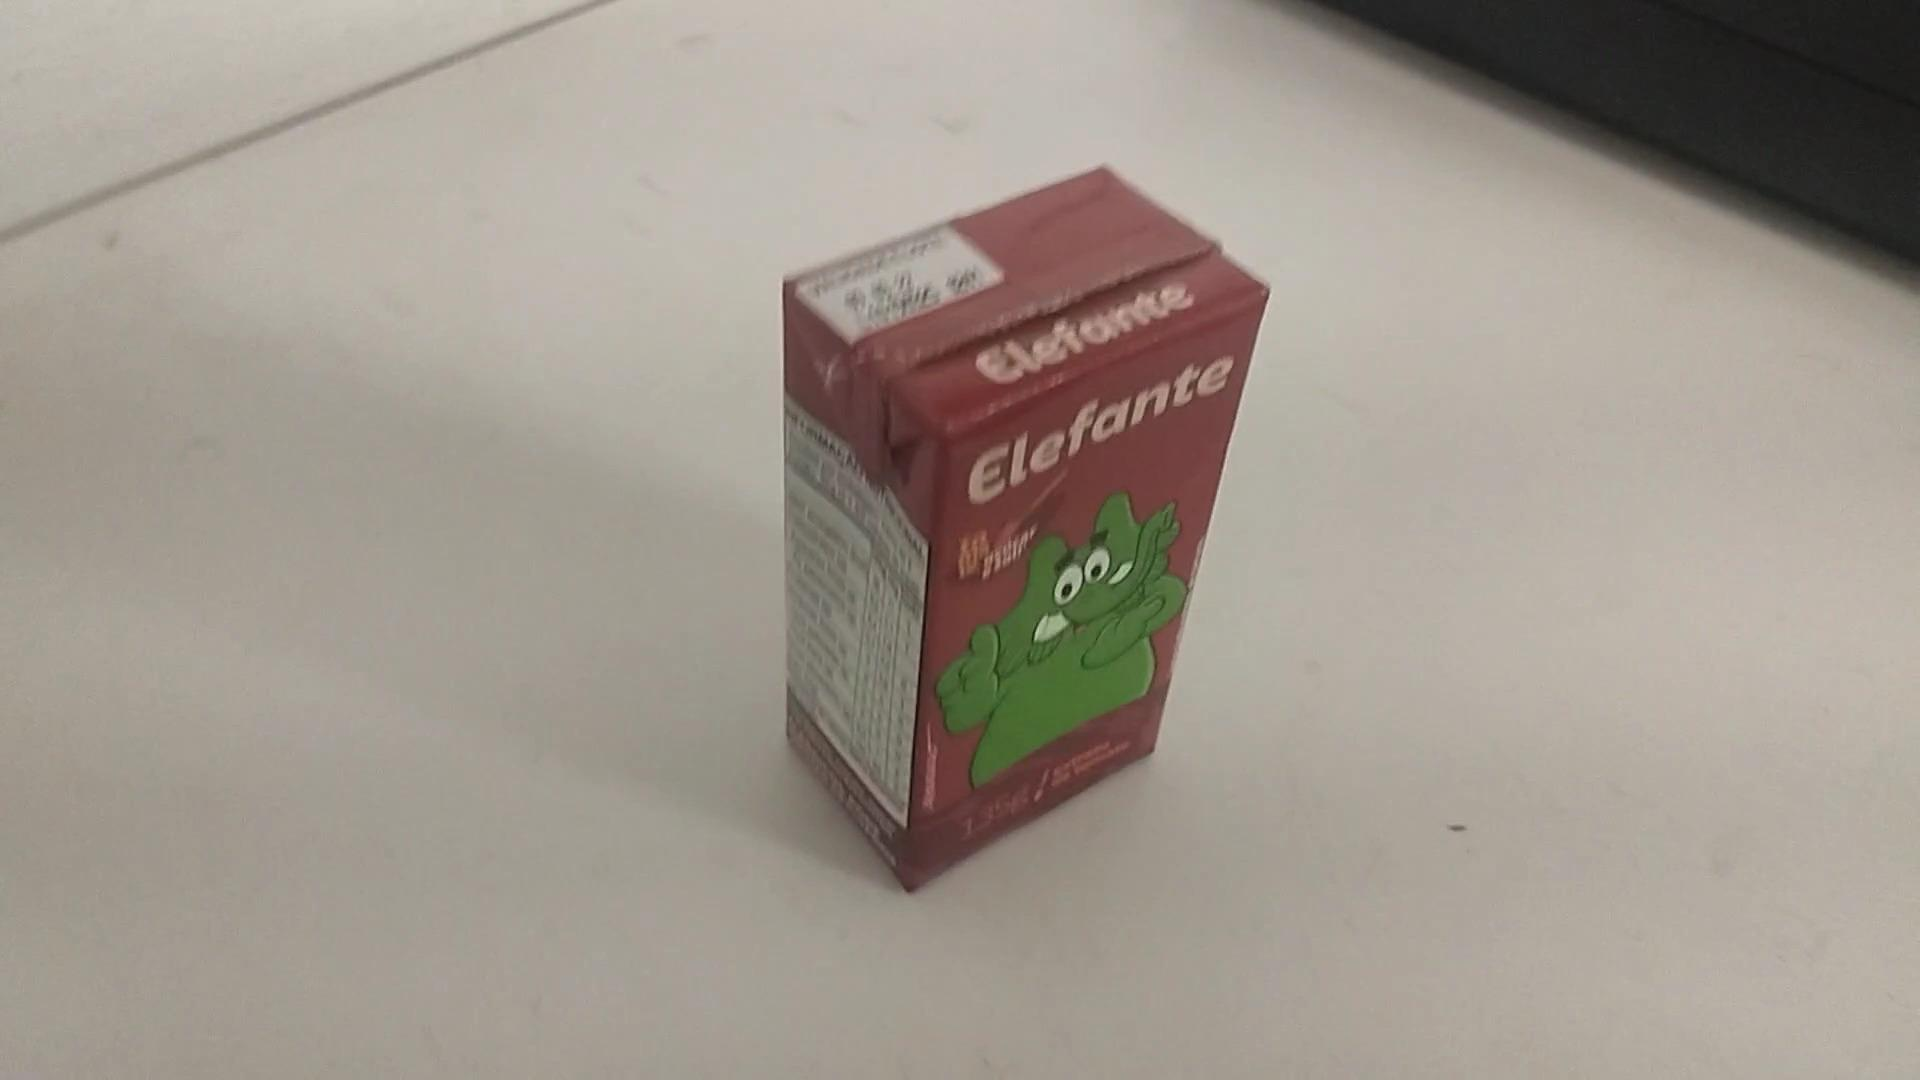tomate: (769, 145, 1275, 889)
